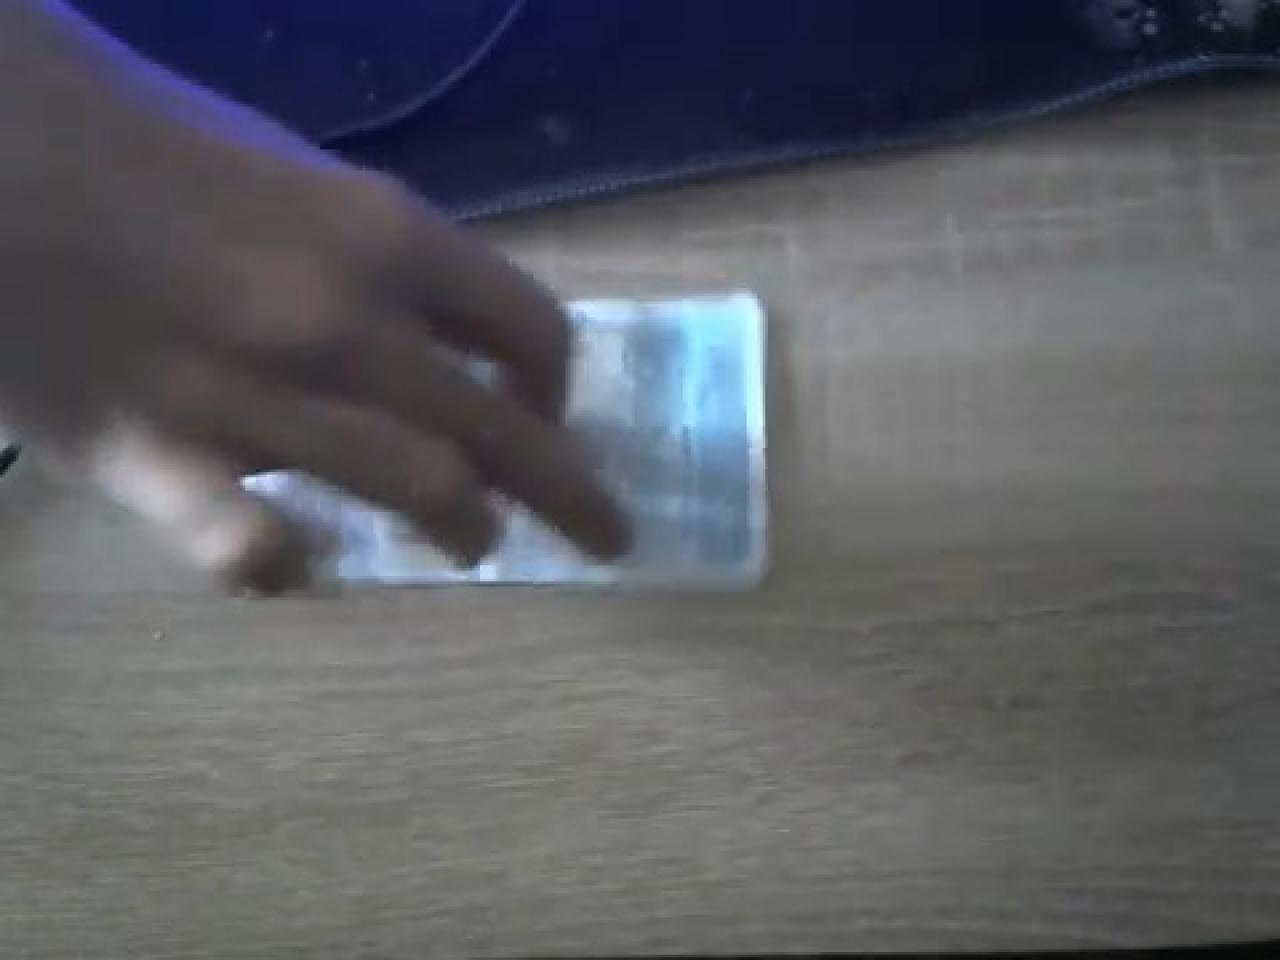20leva: (283, 282, 776, 597)
